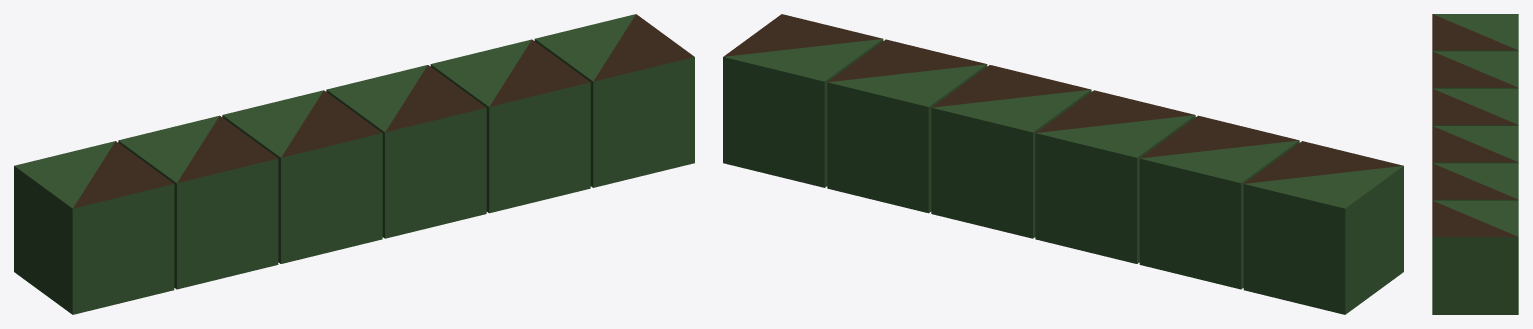
File: cake_green_6.fbx
3 renders of one model, left to right at view 1: azimuth 30°, elevation 25°; view 2: azimuth 150°, elevation 25°; view 3: azimuth 270°, elevation 25°, orthographic. The views are drawn at different scales.
Visible parts, largest first — view 1: 立方体.031; view 2: 立方体.031; view 3: 立方体.031.
Boxes of the visible parts, bbox=[...] form: 立方体.031: bbox=[14, 14, 694, 314]; 立方体.031: bbox=[723, 14, 1403, 314]; 立方体.031: bbox=[1432, 14, 1518, 314].
Bounding box in the file's own units: 89.42 × 14.6 × 14.6.
